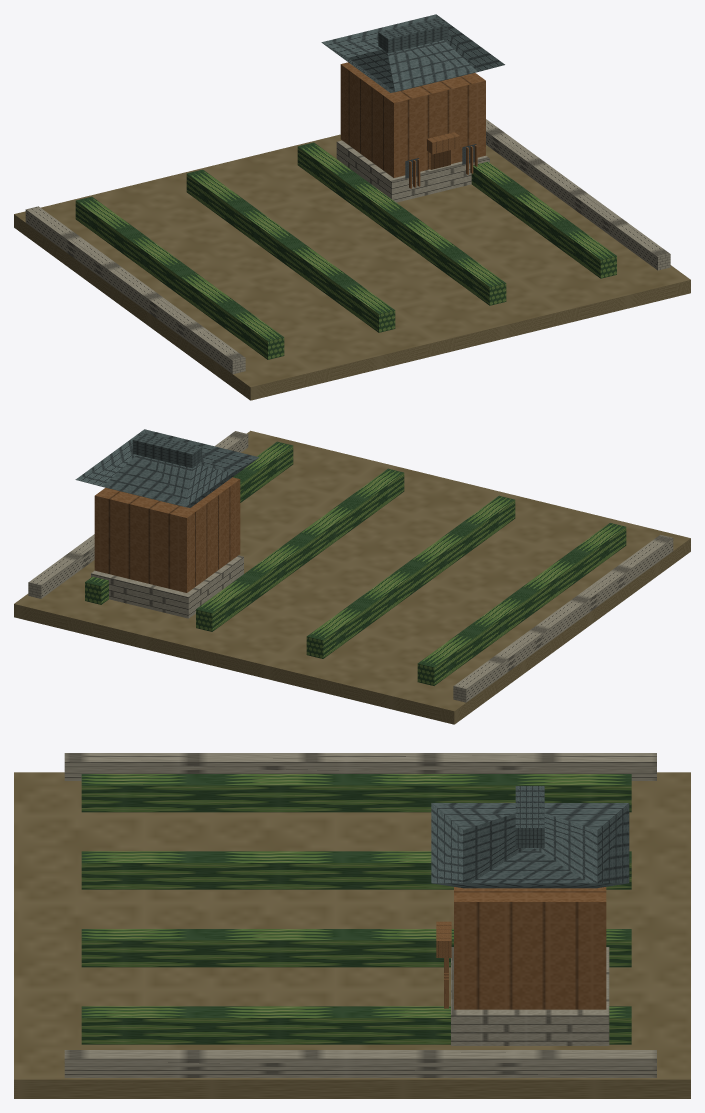
The model's file is domestic-FARM-1-lod1.glb.
3 views of the same model, one above another, from view 1: azimuth 30°, elevation 25°; view 2: azimuth 150°, elevation 25°; view 3: azimuth 270°, elevation 25° (orthographic). The views are drawn at different scales.
Bounding box in the file's own units: 0.86 × 0.292 × 0.8.
Materials: 1 (1 with a texture image).
